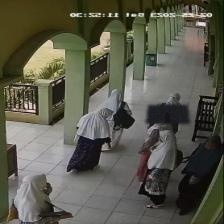Cadar_Niqab: (145, 95, 190, 123)
